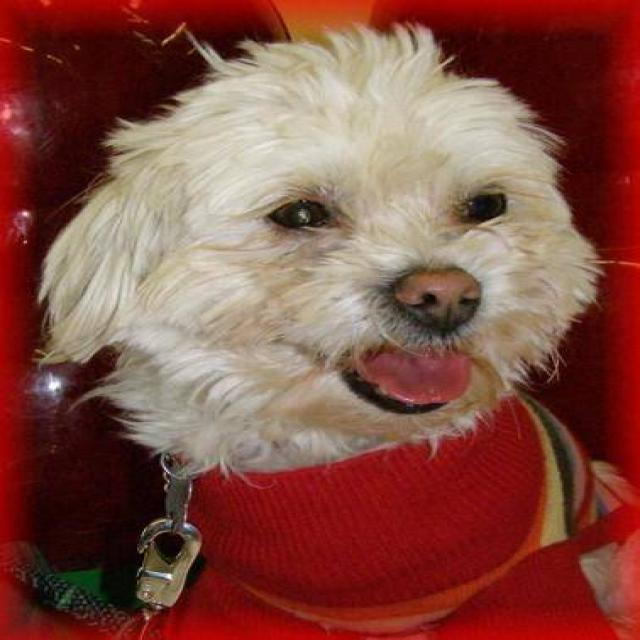dog: (30, 19, 613, 485)
